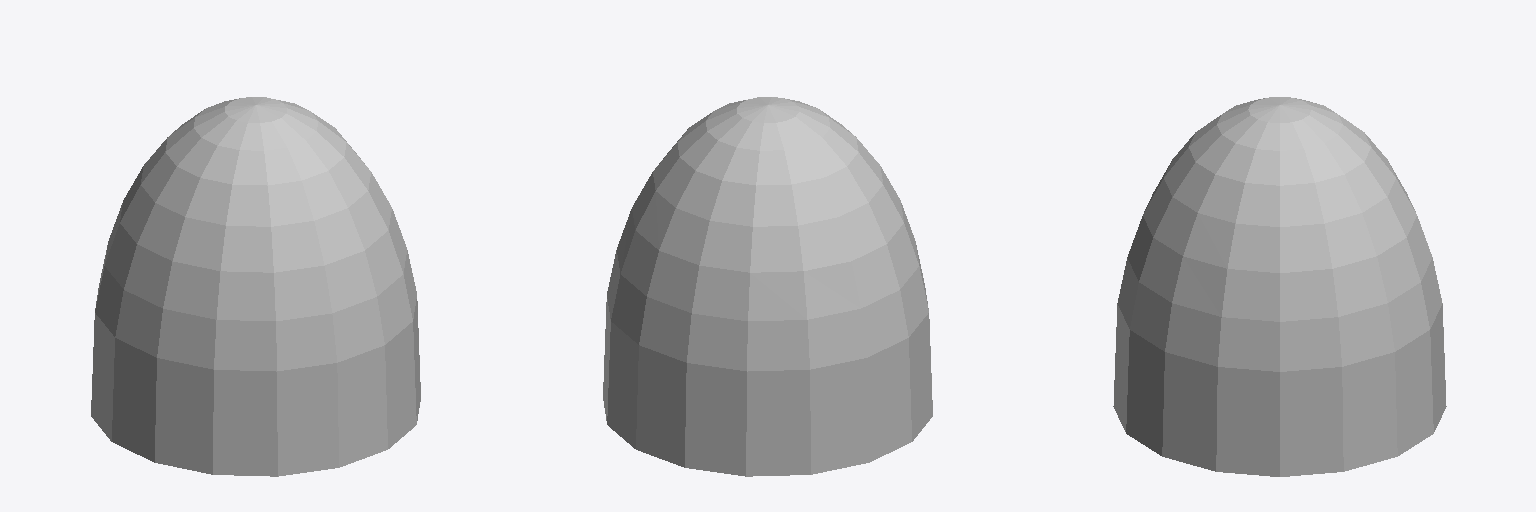
File: w3_skybox_xyz_v2.obj
3 views of the same model, side by side, from view 1: azimuth 30°, elevation 25°; view 2: azimuth 150°, elevation 25°; view 3: azimuth 270°, elevation 25° (orthographic).
Bounding box in the file's own units: 1 × 1 × 1.